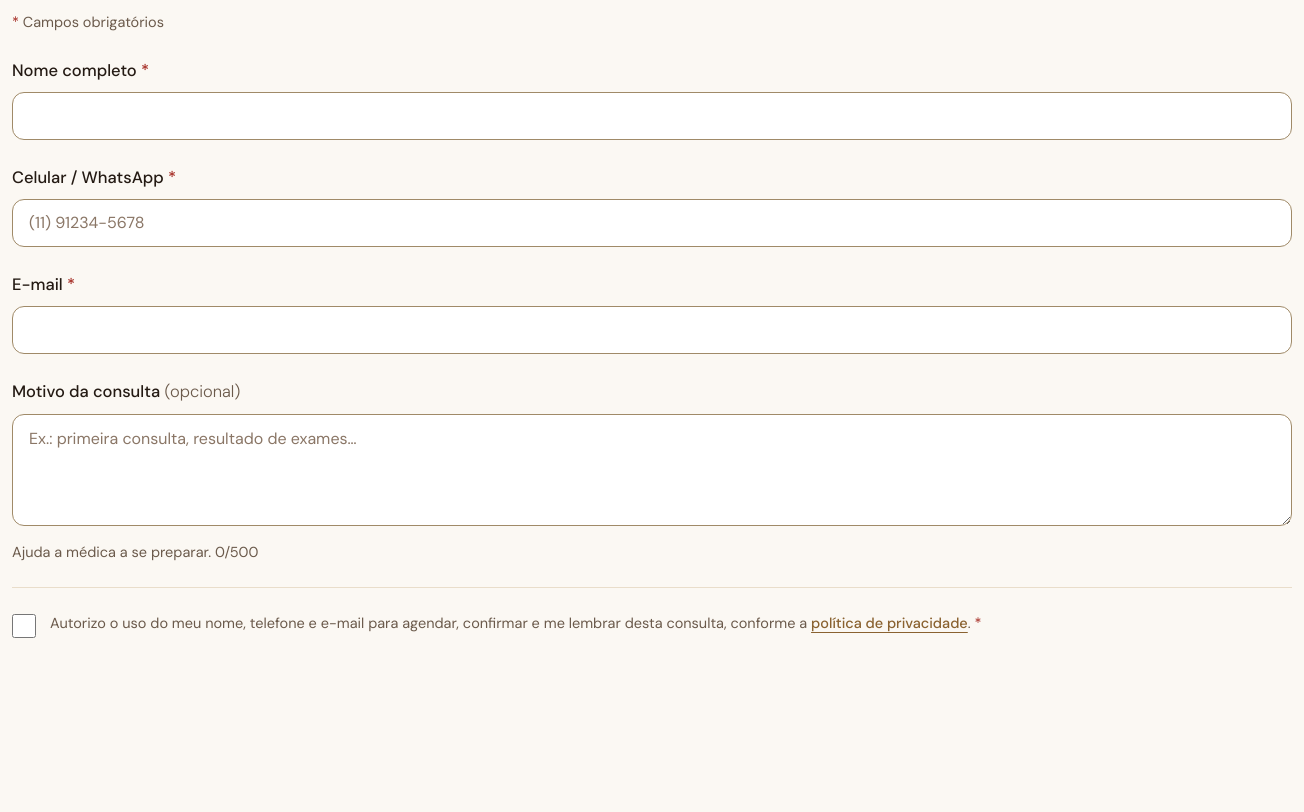
Scenario: <FormularioDados> › contador de caracteres do motivo atualiza ao digitar
The width and height of the screenshot is (1304, 812).
Type "dor" into the text box labelled "Motivo da consulta (opcional)" at (652, 470), box [12, 414, 1292, 526]
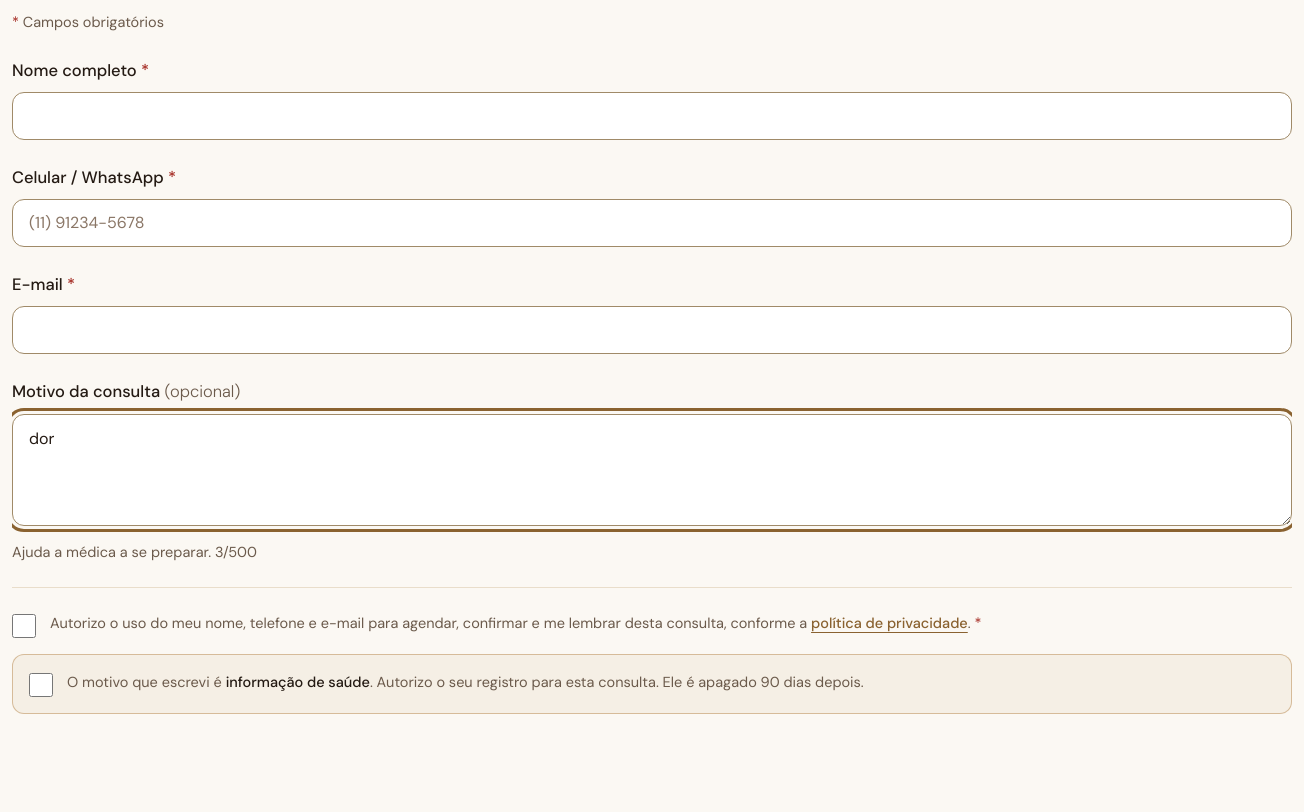
Now the text "3/500" is shown, box [215, 543, 257, 561]
